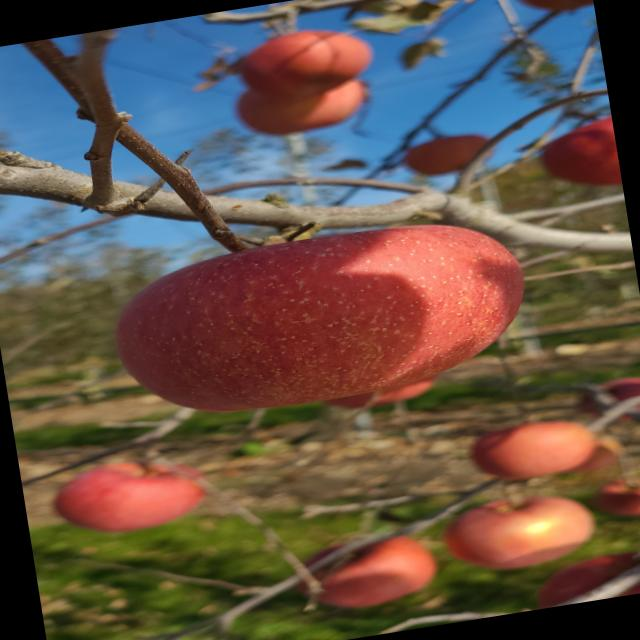fresh: (86, 196, 563, 460)
